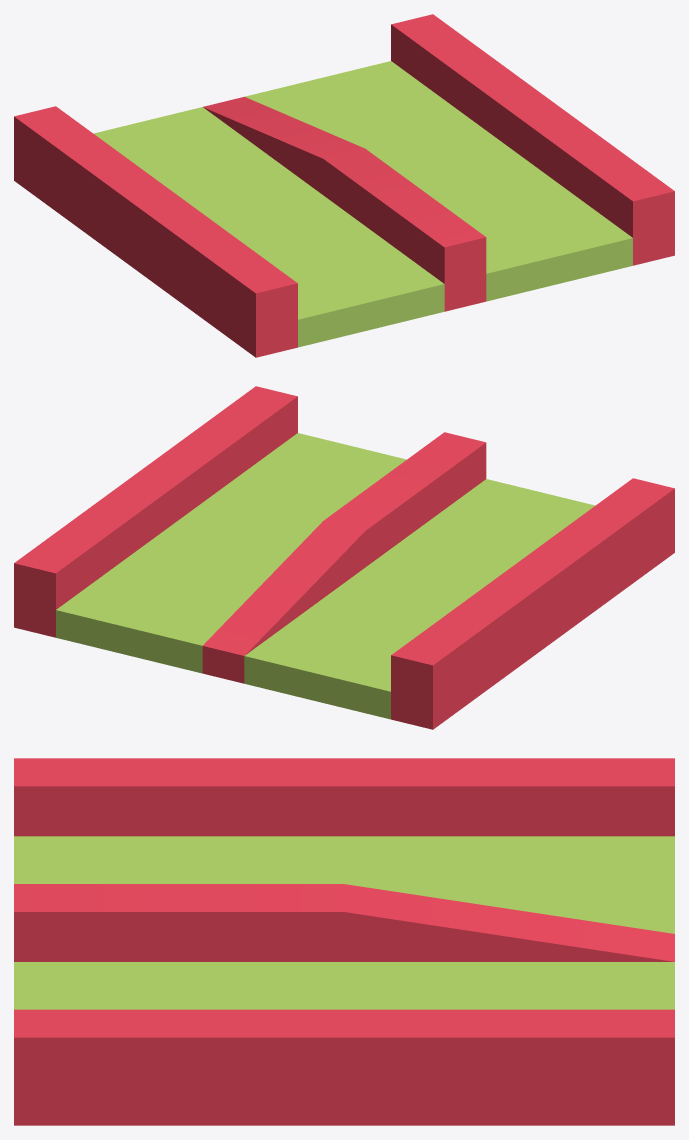
File: splitStart.fbx
3 views of the same model, one above another, from view 1: azimuth 30°, elevation 25°; view 2: azimuth 150°, elevation 25°; view 3: azimuth 270°, elevation 25° (orthographic). The views are drawn at different scales.
Parts seen in each view (by area): view 1: splitStart; view 2: splitStart; view 3: splitStart.
Boxes of the visible parts, x1,y1,x2,y2 form: splitStart: [14, 14, 674, 357]; splitStart: [14, 386, 674, 729]; splitStart: [14, 758, 674, 1125].
Size of the model in its own units: 10 by 1.47 by 10.
